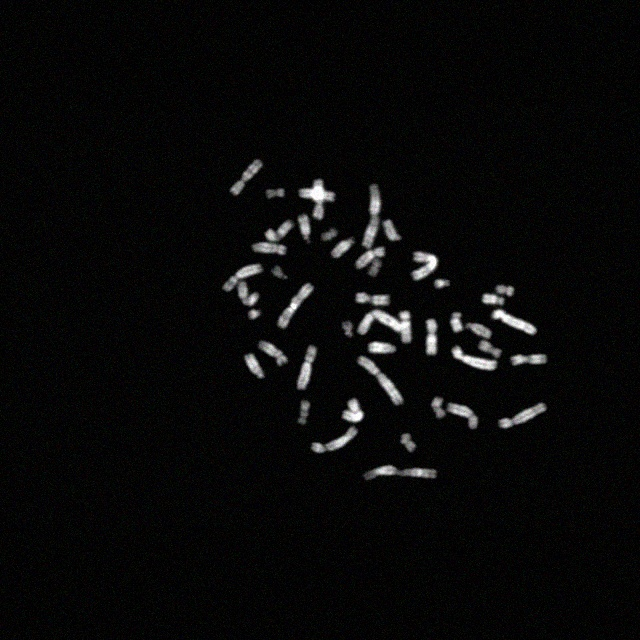chromosome: (357, 357, 403, 405), (278, 284, 314, 328), (362, 185, 382, 248), (498, 402, 546, 428), (230, 159, 262, 195), (364, 464, 436, 480), (492, 309, 536, 335), (223, 264, 263, 292), (358, 310, 402, 334), (452, 346, 496, 370), (297, 345, 317, 389), (326, 426, 358, 452), (448, 402, 478, 428), (412, 251, 438, 281), (258, 340, 287, 366), (356, 247, 384, 270), (265, 221, 293, 241), (237, 282, 258, 306), (244, 354, 264, 378), (312, 178, 323, 220), (342, 400, 363, 422), (331, 238, 354, 258), (251, 242, 285, 255), (426, 319, 438, 355), (300, 189, 334, 201), (355, 293, 389, 305), (512, 353, 546, 365), (479, 340, 501, 358), (466, 324, 492, 338), (384, 220, 402, 240), (401, 311, 412, 343), (299, 214, 311, 240), (296, 401, 309, 425), (400, 434, 416, 452), (432, 398, 446, 418), (368, 342, 396, 352), (368, 259, 382, 277), (451, 312, 463, 332), (321, 228, 337, 242), (496, 284, 514, 296), (484, 294, 504, 304), (272, 266, 288, 278), (311, 443, 327, 453), (342, 321, 352, 337), (266, 190, 284, 198), (247, 310, 261, 320), (434, 280, 450, 288)
